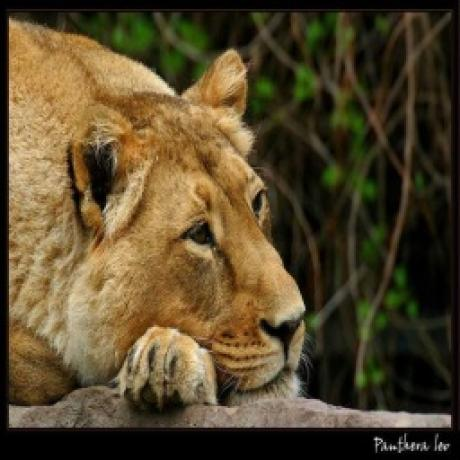Lion: (0, 13, 308, 412)
